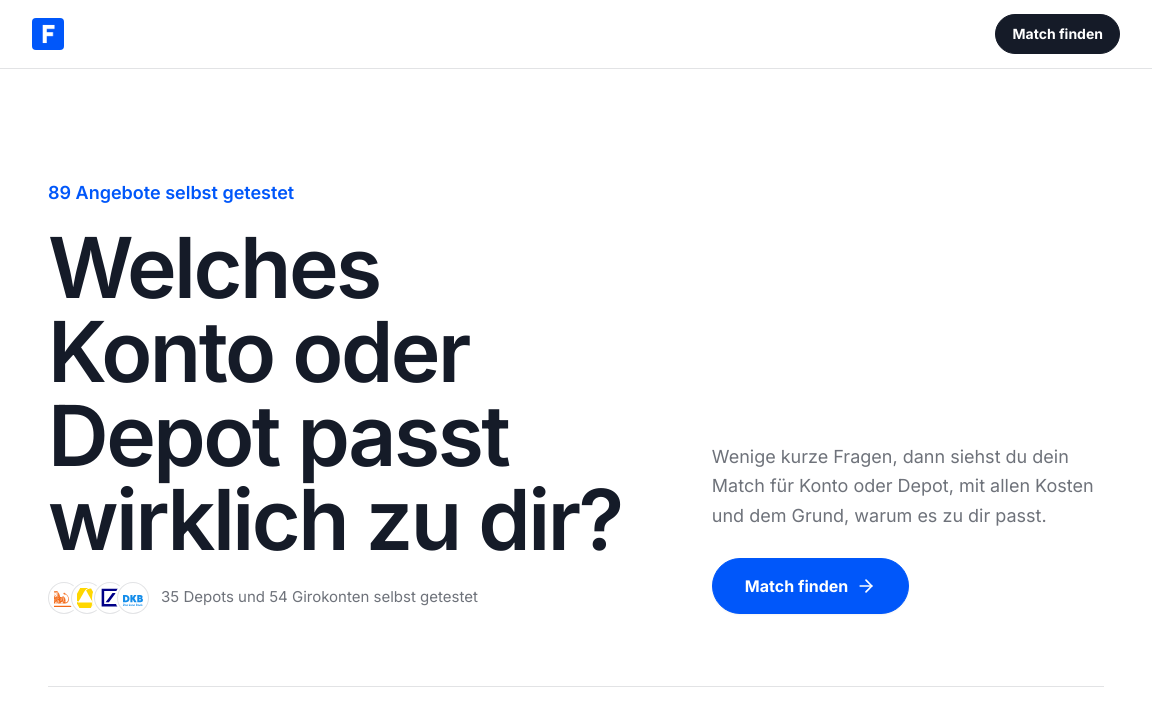
Test: Chat › „Match finden“ öffnet auf derselben Route die erste Frage: Bankkonto immer grün „am beliebtesten“, aus der Aktien-Liste dazu orange „passt zu deiner Liste“ (RN1
Later steps or results of the test are not shown.
Click the 1st button "Match finden".
click(1058, 34)  # box [996,14,1120,54]
Wait 300 ms
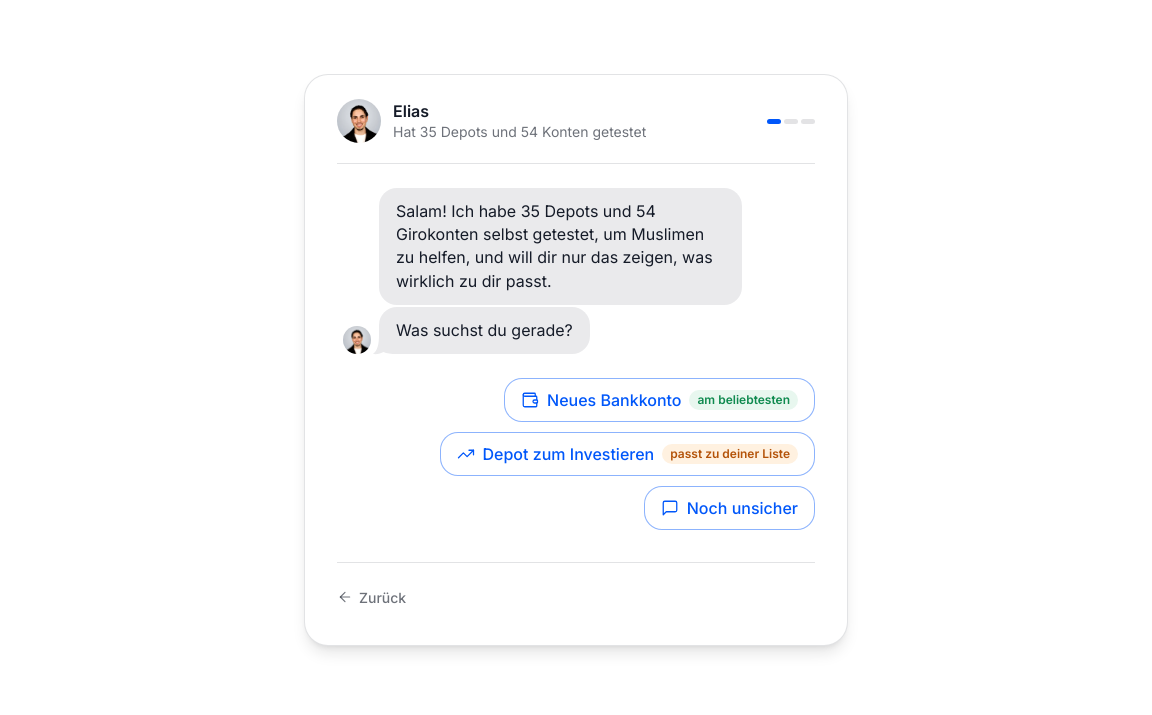
Check: the heading reads "Was suchst du gerade?", box [396,320,573,340]
Check: the text "passt zu deiner Liste" is shown once, box [662,444,798,464]
Check: the text "am beliebtesten" is shown once, box [690,390,798,410]
